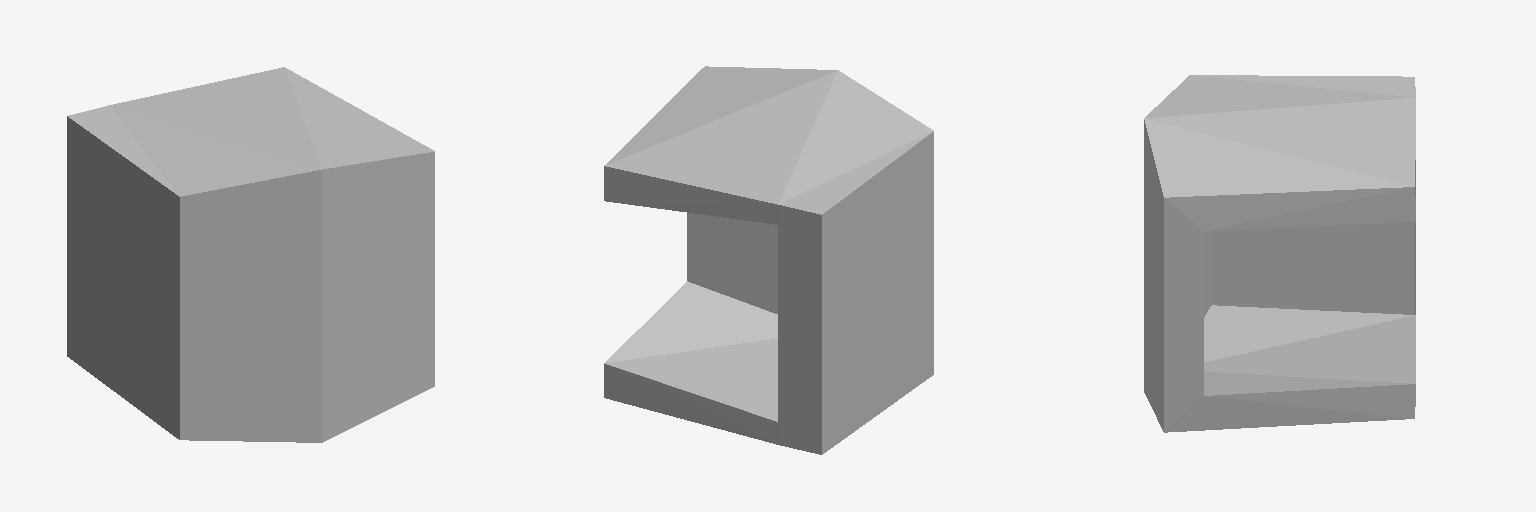
Rendered from statichelm.obj.
The picture shows the model from 3 angles: view 1: azimuth 30°, elevation 25°; view 2: azimuth 150°, elevation 25°; view 3: azimuth 270°, elevation 25°; orthographic projection.
Parts seen in each view (by area): view 1: default; view 2: default; view 3: default.
Part boxes in pixels (bbox=[...]): default: bbox=[67, 67, 434, 442]; default: bbox=[604, 66, 933, 454]; default: bbox=[1144, 75, 1415, 432].
Size of the model in its own units: 2.58 by 2.77 by 2.5.